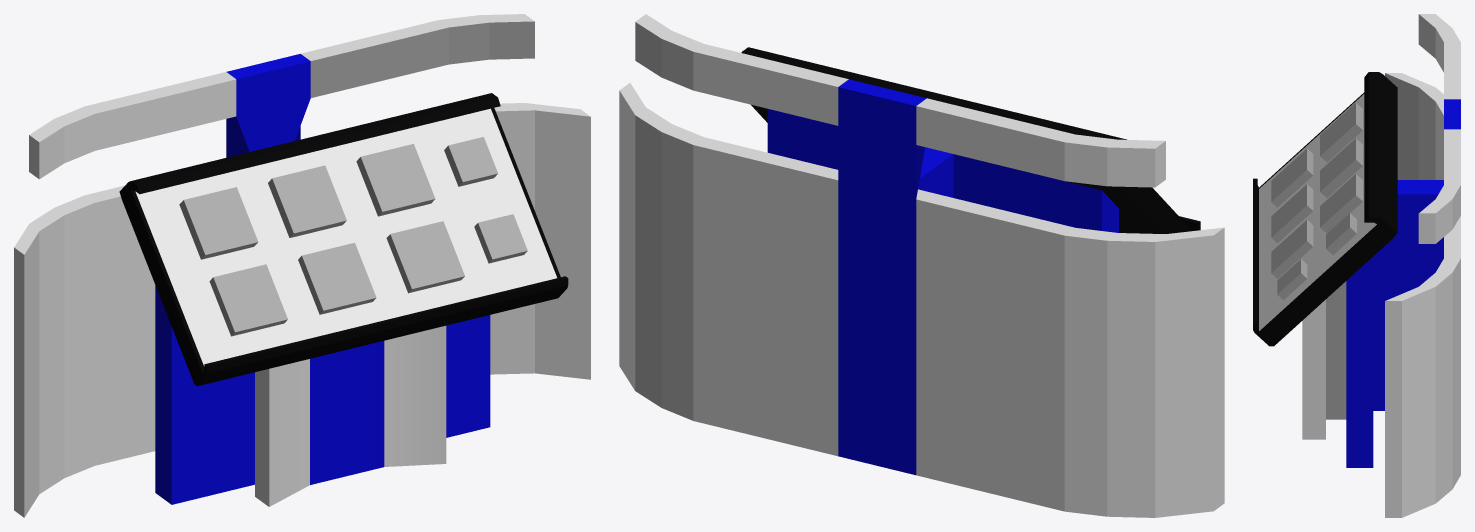
File: MemoryBeyondTerminal.fbx
3 renders of one model, left to right at view 1: azimuth 30°, elevation 25°; view 2: azimuth 150°, elevation 25°; view 3: azimuth 270°, elevation 25°, orthographic. The views are drawn at different scales.
Visible parts, largest first — view 1: TerminalBase, Panel, Button1, Button2, Button3, Button4, Button5, Button6, UndoButton, SubmitButton; view 2: TerminalBase, Panel; view 3: TerminalBase, Panel, Button1, Button2, Button3, Button4, Button6, Button5, UndoButton, SubmitButton.
Part boxes in pixels (bbox=[...]): TerminalBase: bbox=[14, 14, 590, 517]; Panel: bbox=[119, 93, 568, 386]; Button1: bbox=[179, 187, 258, 259]; Button2: bbox=[268, 165, 346, 237]; Button3: bbox=[356, 144, 435, 216]; Button4: bbox=[209, 264, 287, 336]; Button5: bbox=[298, 242, 376, 314]; Button6: bbox=[386, 221, 464, 293]; UndoButton: bbox=[444, 137, 497, 186]; SubmitButton: bbox=[474, 214, 527, 263]; TerminalBase: bbox=[619, 14, 1224, 517]; Panel: bbox=[741, 47, 1200, 233]; TerminalBase: bbox=[1302, 14, 1460, 517]; Panel: bbox=[1253, 72, 1397, 346]; Button1: bbox=[1320, 103, 1362, 162]; Button2: bbox=[1320, 138, 1362, 198]; Button3: bbox=[1320, 174, 1362, 233]; Button4: bbox=[1271, 148, 1313, 207]; Button6: bbox=[1271, 220, 1313, 278]; Button5: bbox=[1271, 184, 1313, 243]; UndoButton: bbox=[1326, 213, 1356, 254]; SubmitButton: bbox=[1277, 259, 1307, 300].
Bounding box in the file's own units: 3.2 × 1.9 × 1.23.
